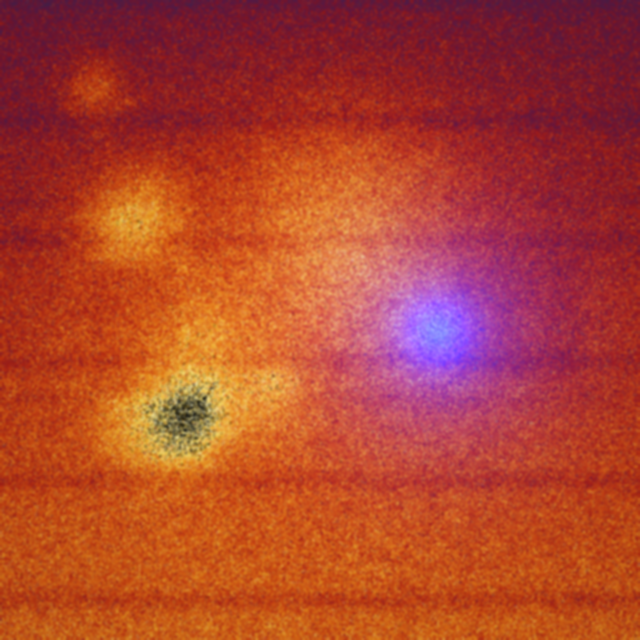nozzle: (400, 292, 486, 376)
